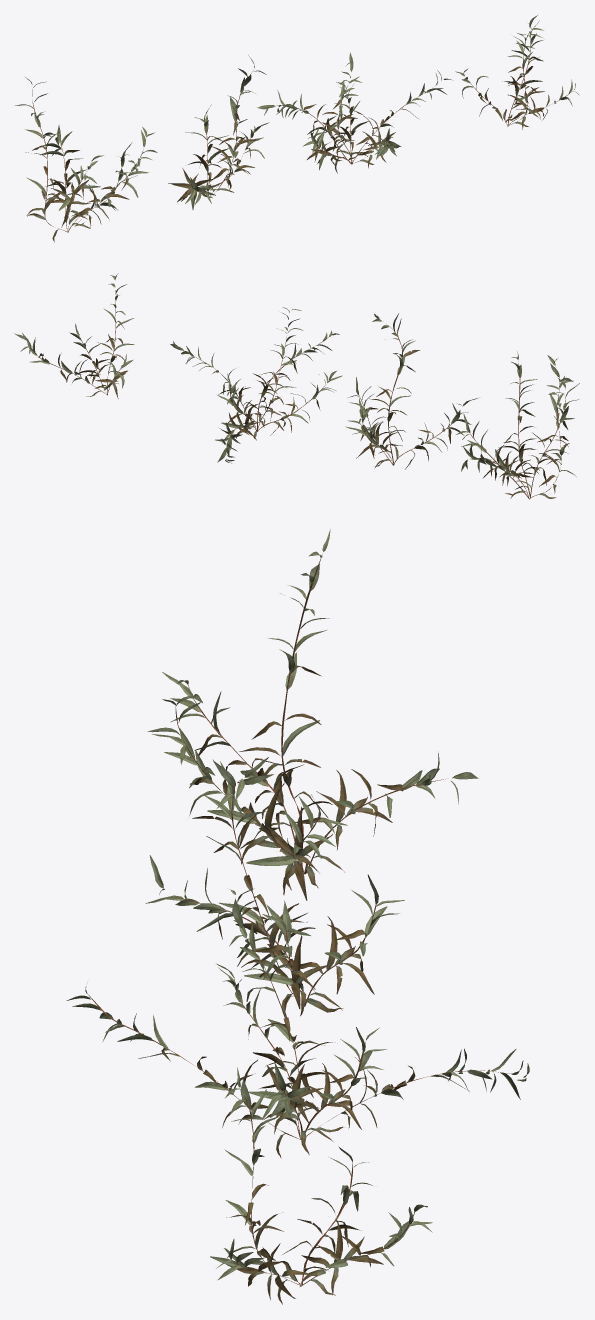
File: buisson_sauvage_lod0.glb
3 views of the same model, one above another, from view 1: azimuth 30°, elevation 25°; view 2: azimuth 150°, elevation 25°; view 3: azimuth 270°, elevation 25° (orthographic). The views are drawn at different scales.
Visible parts, largest first — view 1: shrub_02_a; view 2: shrub_02_a; view 3: shrub_02_a.
Boxes of the visible parts, x1,y1,x2,y2 form: shrub_02_a: (15,15,579,242); shrub_02_a: (14,273,579,499); shrub_02_a: (66,529,529,1304).
Size of the model in its own units: 6.05 by 1.7 by 2.29.
1 material, 1 textured.
